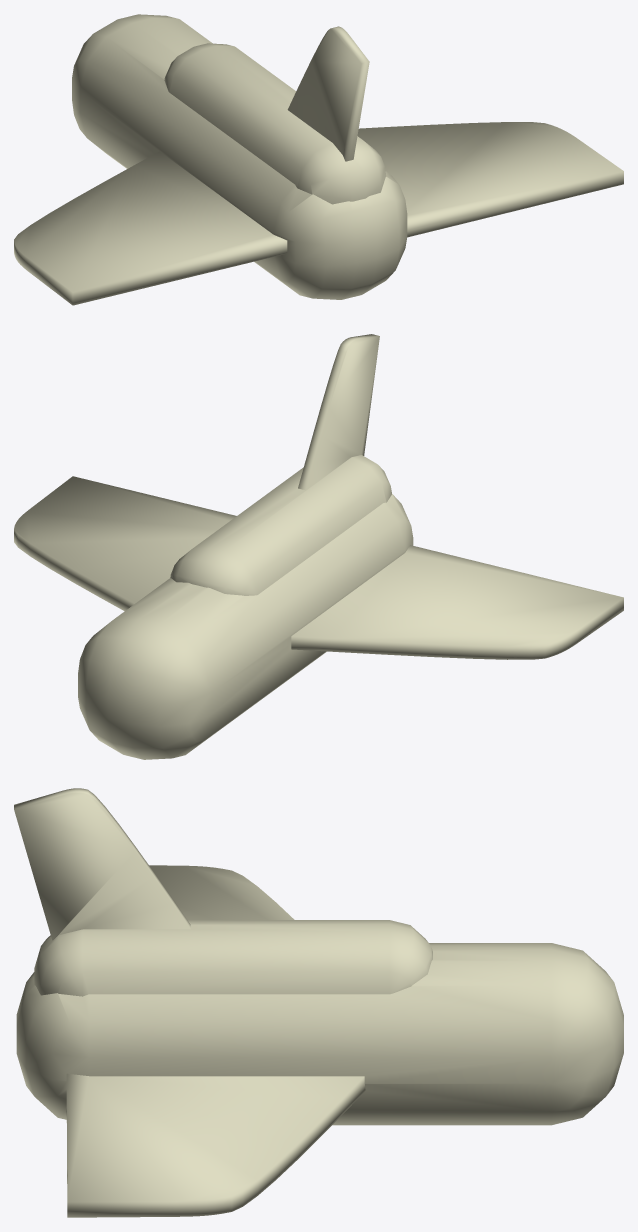
3 renders of one model, top to bottom at view 1: azimuth 30°, elevation 25°; view 2: azimuth 150°, elevation 25°; view 3: azimuth 270°, elevation 25°, orthographic. The views are drawn at different scales.
Parts seen in each view (by area): view 1: ChamferBox01; view 2: ChamferBox01; view 3: ChamferBox01.
Boxes of the visible parts, x1,y1,x2,y2 form: ChamferBox01: (14, 14, 623, 305); ChamferBox01: (14, 334, 623, 759); ChamferBox01: (14, 788, 623, 1217).
Bounding box in the file's own units: 438 × 204 × 351.
